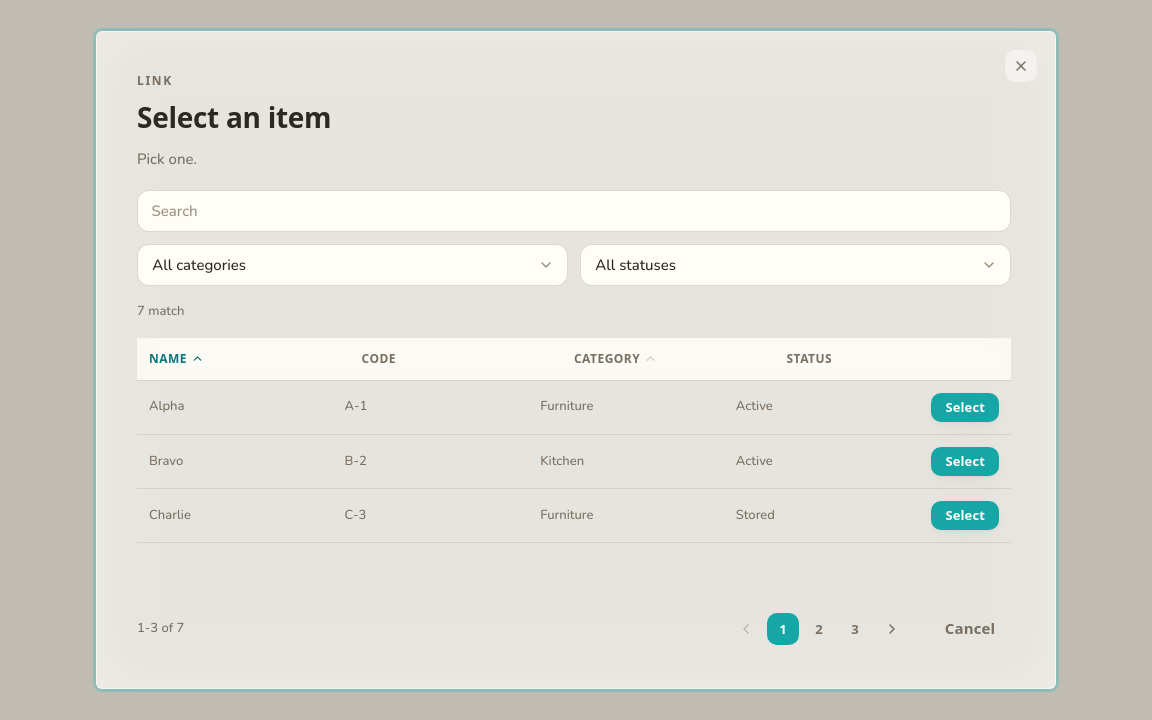
Scenario: EntitySelectorDialog › paginates with a numbered footer
Expected: the text "1-3 of 7" is shown, [137,619,184,638]
What coordinates should you click on to do the following:
click the button "2"
I would click on:
 (819, 629)
Its box is [803,613,835,645].
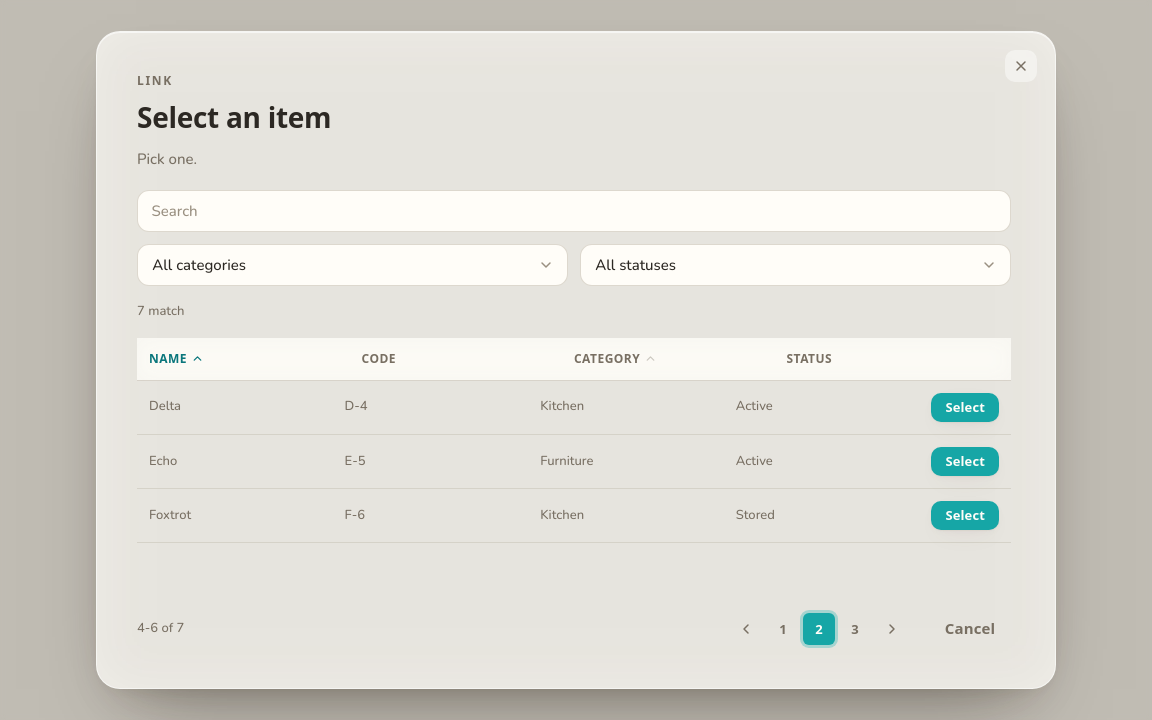
Expected: the text "4-6 of 7" is shown, [137,619,184,638]
